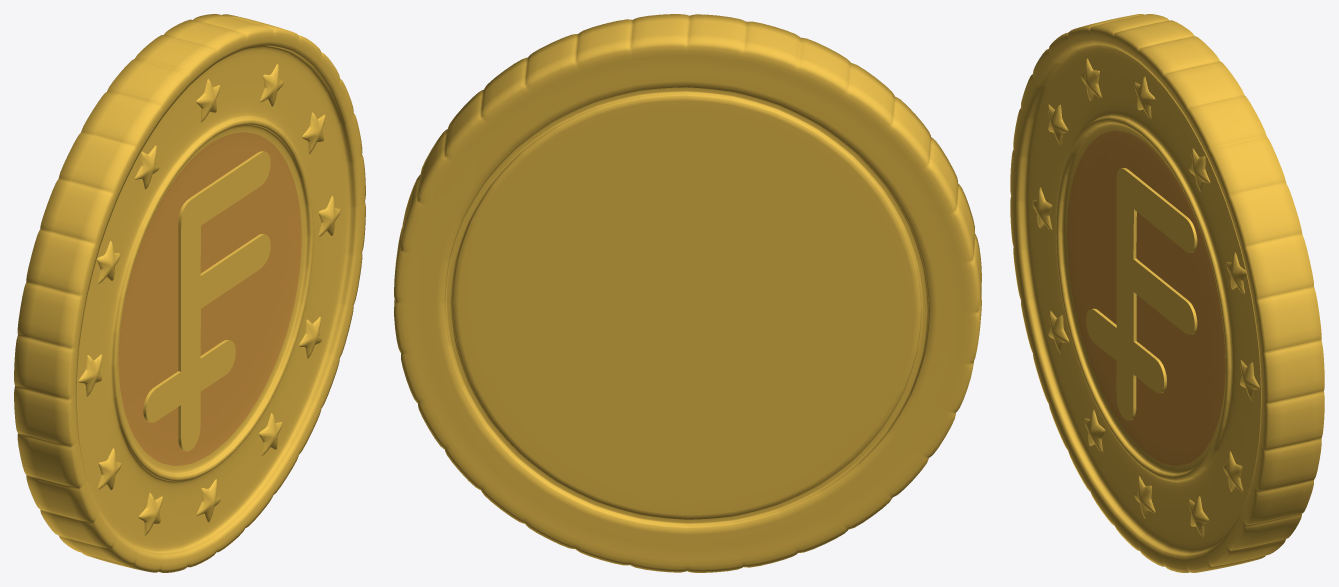
Rendered from swiss-franc-coin-3d-animated-icon-481741650944.glb.
3 renders of one model, left to right at view 1: azimuth 30°, elevation 25°; view 2: azimuth 150°, elevation 25°; view 3: azimuth 270°, elevation 25°, orthographic. The views are drawn at different scales.
Visible parts, largest first — view 1: Cylinder.001, Curve, Star.009, Star.010, Star.008, Star.007, Star.011, Star, Star.006, Star.005, Star.002, Star.001 (+2 smaller); view 2: Cylinder.001; view 3: Cylinder.001, Curve, Star.008, Star.009, Star.010, Star.007, Star.011, Star, Star.005, Star.001, Star.006, Star.002 (+2 smaller).
Part boxes in pixels (bbox=[...]): Cylinder.001: bbox=[14, 14, 365, 572]; Curve: bbox=[143, 151, 270, 451]; Star.009: bbox=[78, 354, 102, 396]; Star.010: bbox=[96, 241, 120, 283]; Star.008: bbox=[97, 448, 121, 489]; Star.007: bbox=[138, 493, 162, 535]; Star.011: bbox=[135, 145, 159, 189]; Star: bbox=[196, 79, 220, 122]; Star.006: bbox=[196, 479, 220, 522]; Star.005: bbox=[259, 413, 282, 455]; Star.002: bbox=[302, 112, 325, 154]; Star.001: bbox=[260, 64, 283, 106]; Cylinder.001: bbox=[394, 14, 981, 572]; Cylinder.001: bbox=[1010, 14, 1324, 572]; Curve: bbox=[1086, 168, 1197, 420]; Star.008: bbox=[1048, 310, 1069, 354]; Star.009: bbox=[1032, 187, 1052, 230]; Star.010: bbox=[1047, 104, 1068, 146]; Star.007: bbox=[1084, 409, 1105, 452]; Star.011: bbox=[1081, 58, 1101, 100]; Star: bbox=[1134, 76, 1155, 119]; Star.005: bbox=[1188, 496, 1209, 538]; Star.001: bbox=[1189, 148, 1210, 191]; Star.006: bbox=[1134, 476, 1155, 518]; Star.002: bbox=[1226, 252, 1246, 294].
Bounding box in the file's own units: 2.08 × 2.22 × 1.25.
